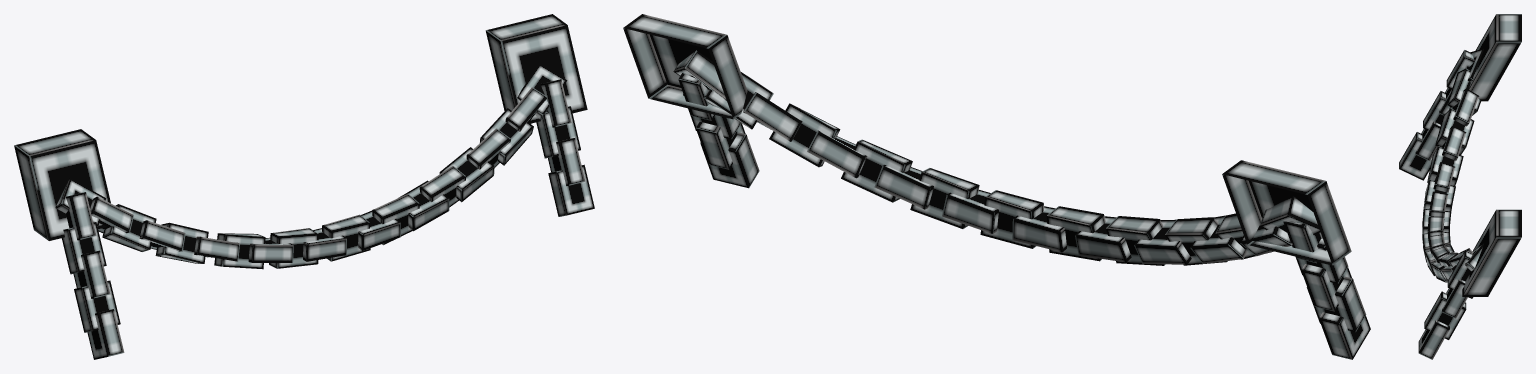
File: deco_winter_chainWallDiagonal.FBX
3 views of the same model, side by side, from view 1: azimuth 30°, elevation 25°; view 2: azimuth 150°, elevation 25°; view 3: azimuth 270°, elevation 25° (orthographic). The views are drawn at different scales.
Parts seen in each view (by area): view 1: deco_winter_chainWallDiagonal; view 2: deco_winter_chainWallDiagonal; view 3: deco_winter_chainWallDiagonal.
Boxes of the visible parts, x1,y1,x2,y2 form: deco_winter_chainWallDiagonal: (14, 14, 594, 359); deco_winter_chainWallDiagonal: (623, 14, 1370, 359); deco_winter_chainWallDiagonal: (1399, 14, 1521, 359).
Bounding box in the file's own units: 3.44 × 1.08 × 0.7985.
Materials: 1 (1 with a texture image).
